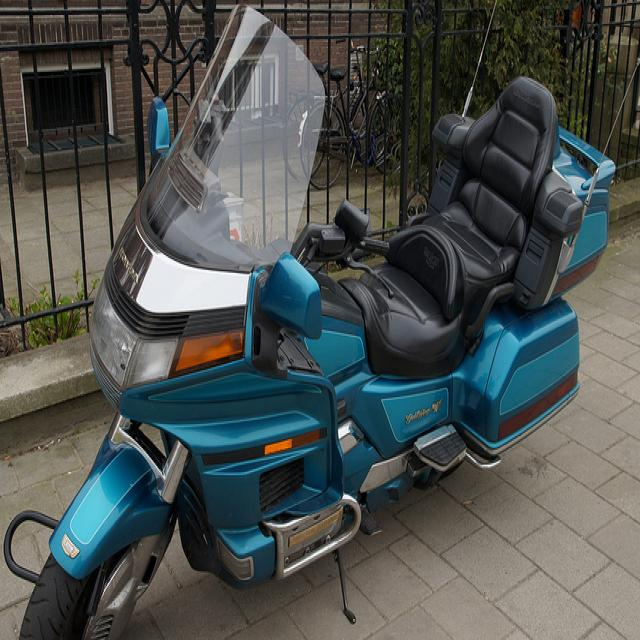motor: (6, 1, 616, 632)
